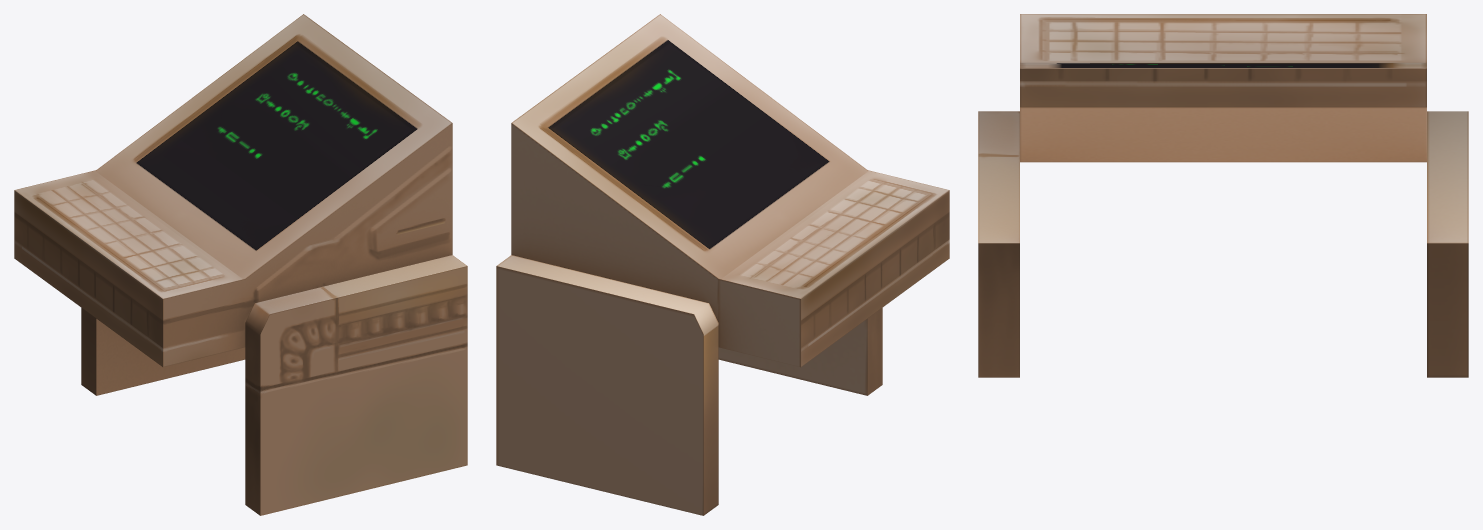
The model's file is computer_maya.FBX.
3 views of the same model, side by side, from view 1: azimuth 30°, elevation 25°; view 2: azimuth 150°, elevation 25°; view 3: azimuth 270°, elevation 25° (orthographic). The views are drawn at different scales.
Parts seen in each view (by area): view 1: computer_maya; view 2: computer_maya; view 3: computer_maya.
Part boxes in pixels (x1,y1,x2,y2): computer_maya: [14, 14, 467, 515]; computer_maya: [496, 14, 949, 515]; computer_maya: [978, 14, 1468, 377].
Size of the model in its own units: 1.17 by 1.28 by 1.26.
